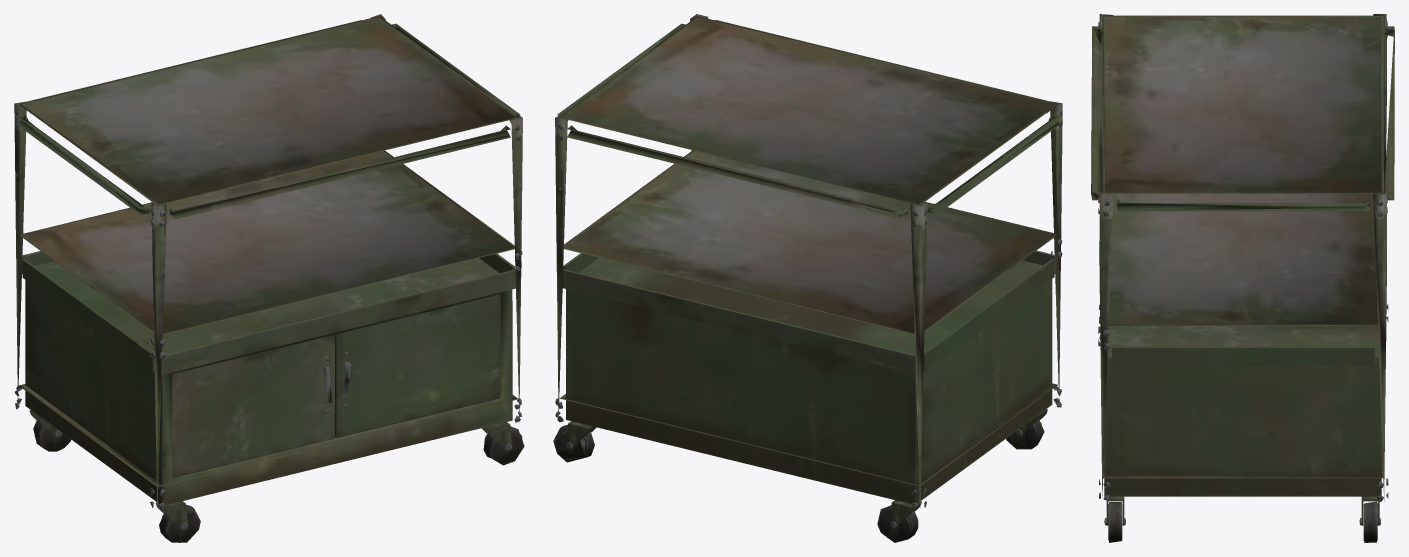
The model's file is industrial_storage_cart.glb.
3 renders of one model, left to right at view 1: azimuth 30°, elevation 25°; view 2: azimuth 150°, elevation 25°; view 3: azimuth 270°, elevation 25°, orthographic.
Parts seen in each view (by area): view 1: industrial_storage_cart; view 2: industrial_storage_cart; view 3: industrial_storage_cart.
Boxes of the visible parts, x1,y1,x2,y2 form: industrial_storage_cart: (14, 14, 524, 542); industrial_storage_cart: (553, 14, 1062, 542); industrial_storage_cart: (1091, 14, 1394, 542).
Bounding box in the file's own units: 1.58 × 1.38 × 1.08.
1 material, 1 textured.
